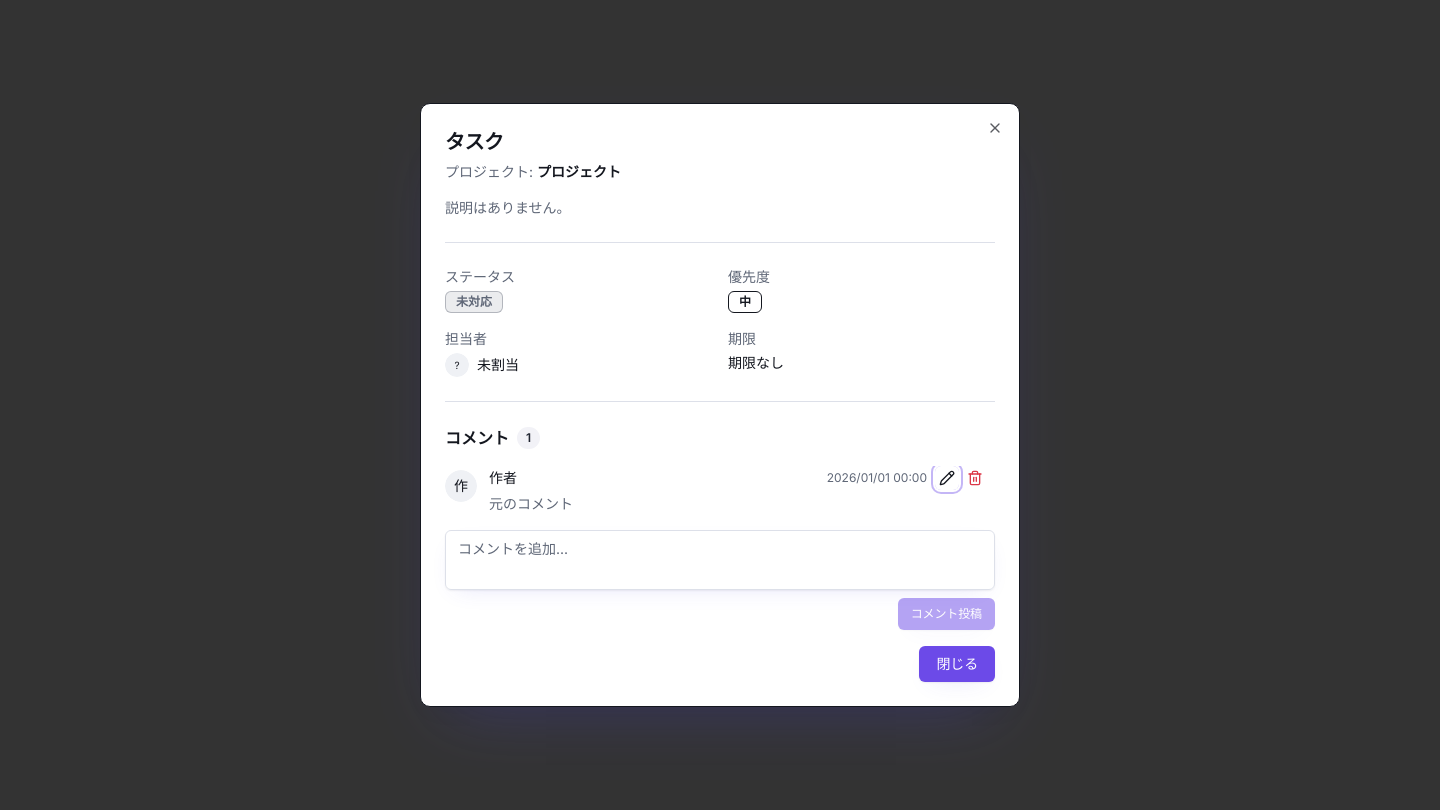
Test: 送信後の下書きと成功通知 › 更新の送信後に書き足すと、編集を閉じずに警告を出す
Click the button named "コメントを編集": (947, 478) [935,466,959,490]
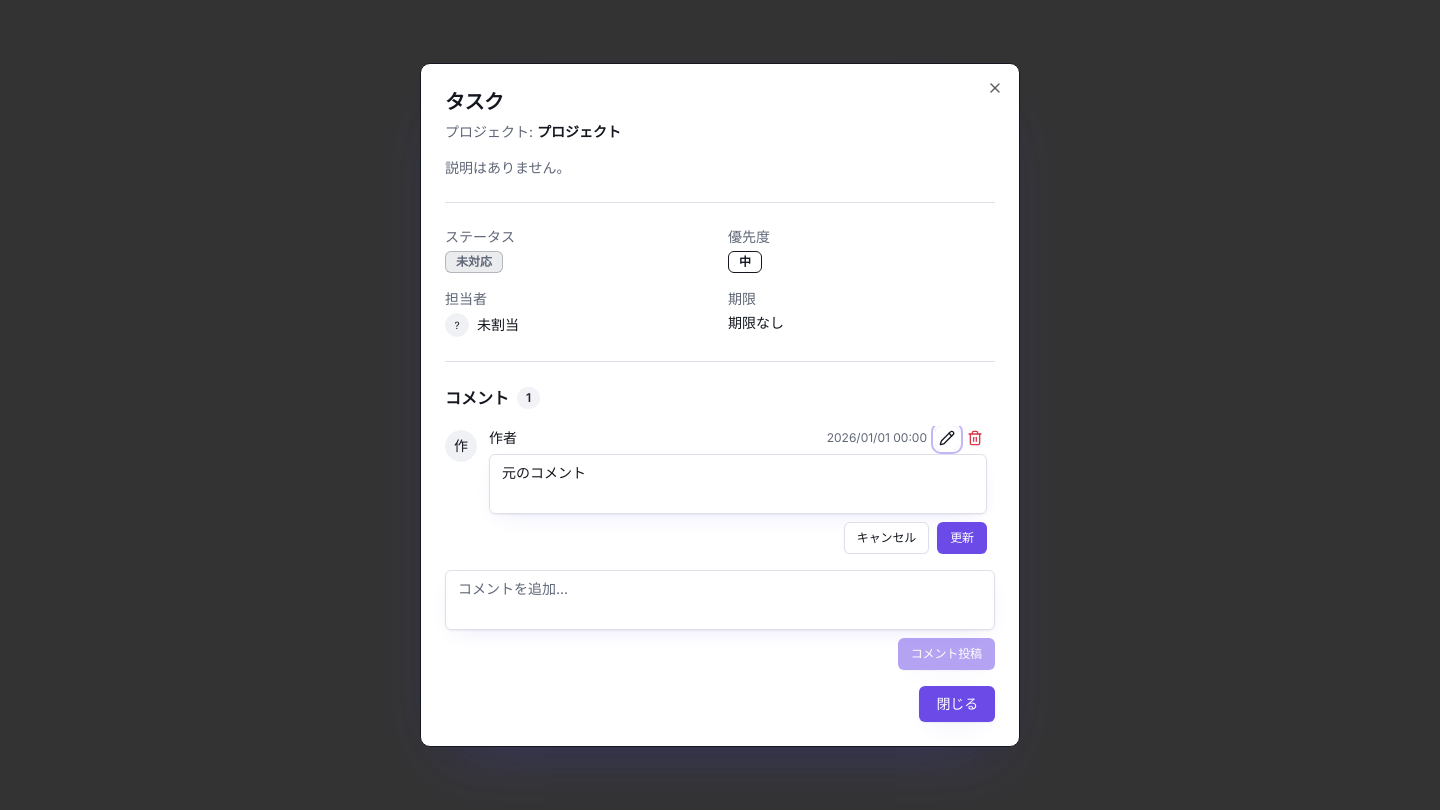
Click the button "更新": (962, 538) [937,522,987,554]
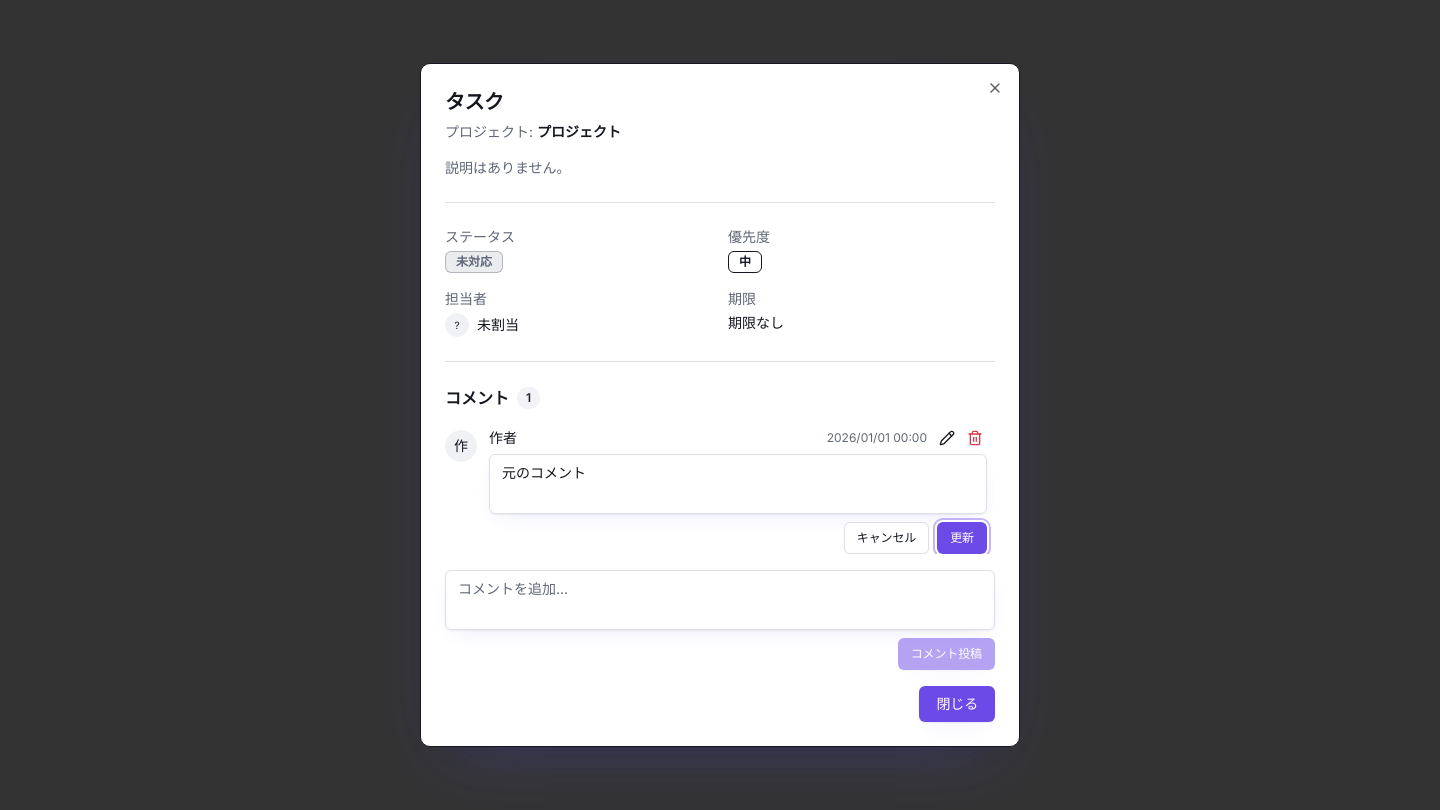
送信待ちの間に書き足す
In the text box showing "元のコメント": (738, 484) [489,454,987,514], type "追記"
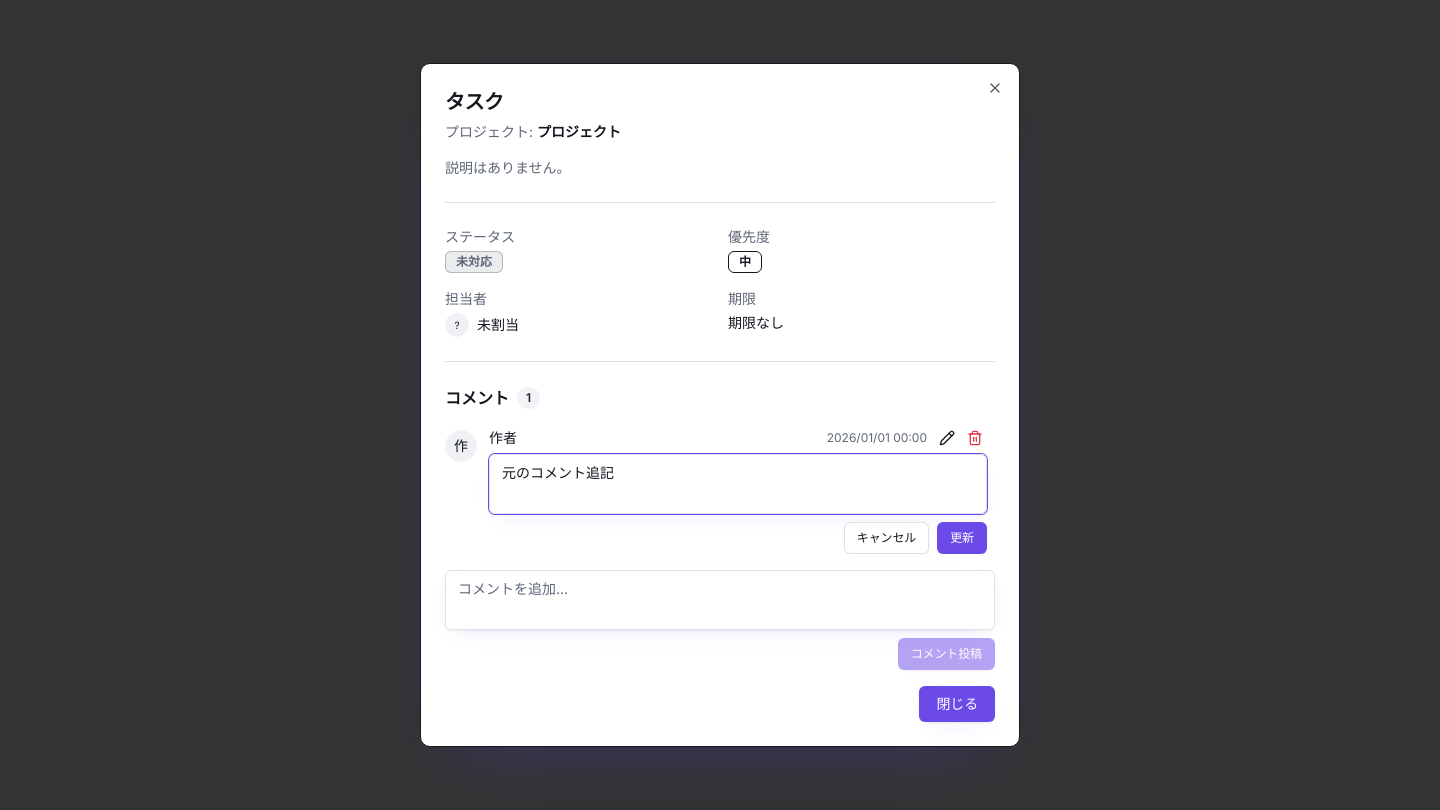
Expected: the button "更新" is shown, [937,522,987,554]
Expected: the text box showing "元のコメント" holds "元のコメント追記", [489,454,987,514]
